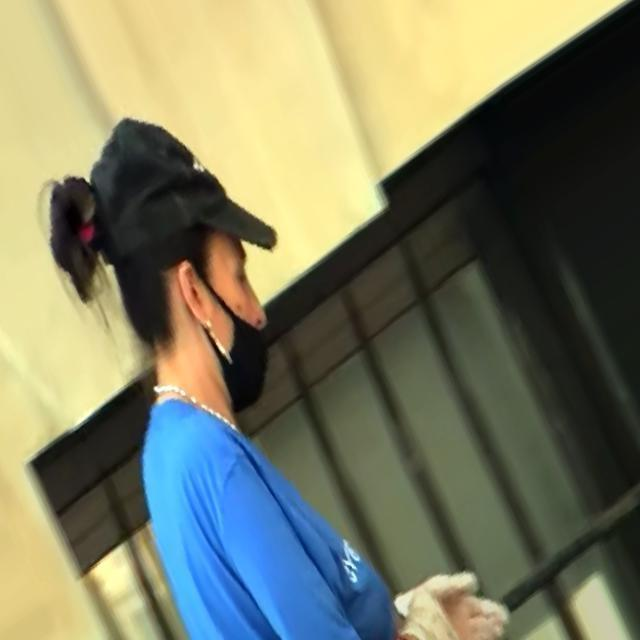hairnet: (207, 249, 270, 407)
